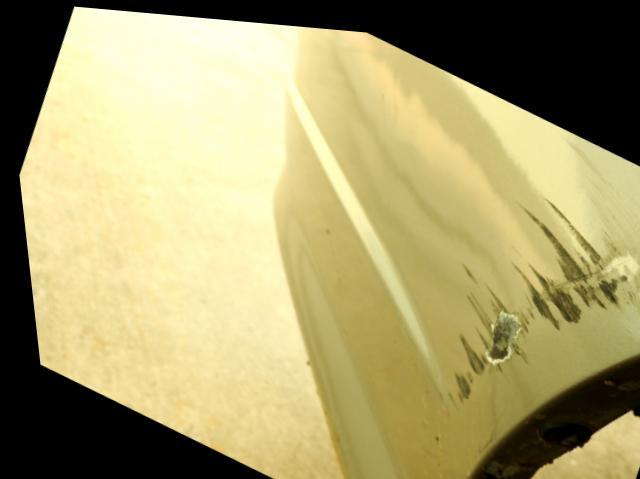scratch: (426, 165, 640, 411)
